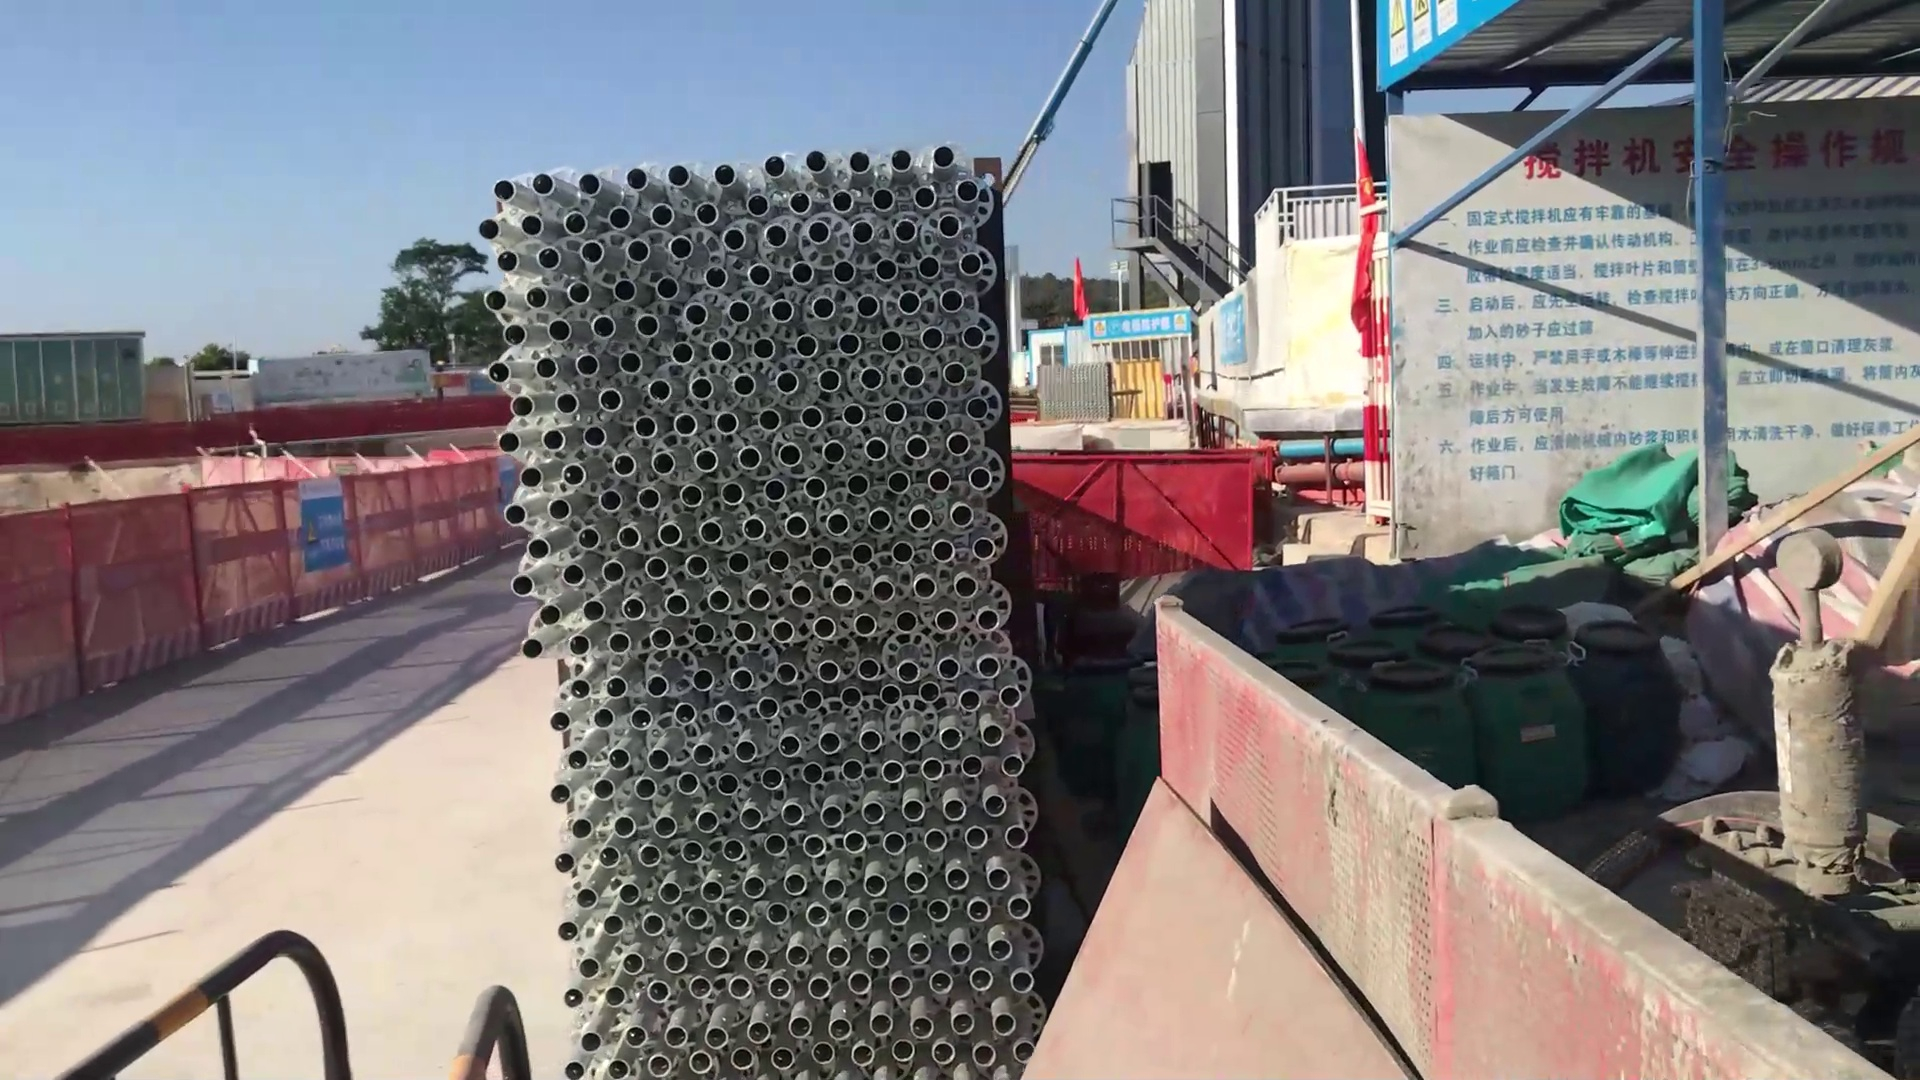fence: (1151, 595, 1920, 1080), (1, 454, 465, 724), (1019, 443, 1266, 568)
scaffold: (471, 135, 1040, 1080)
slogan: (301, 502, 348, 567)
